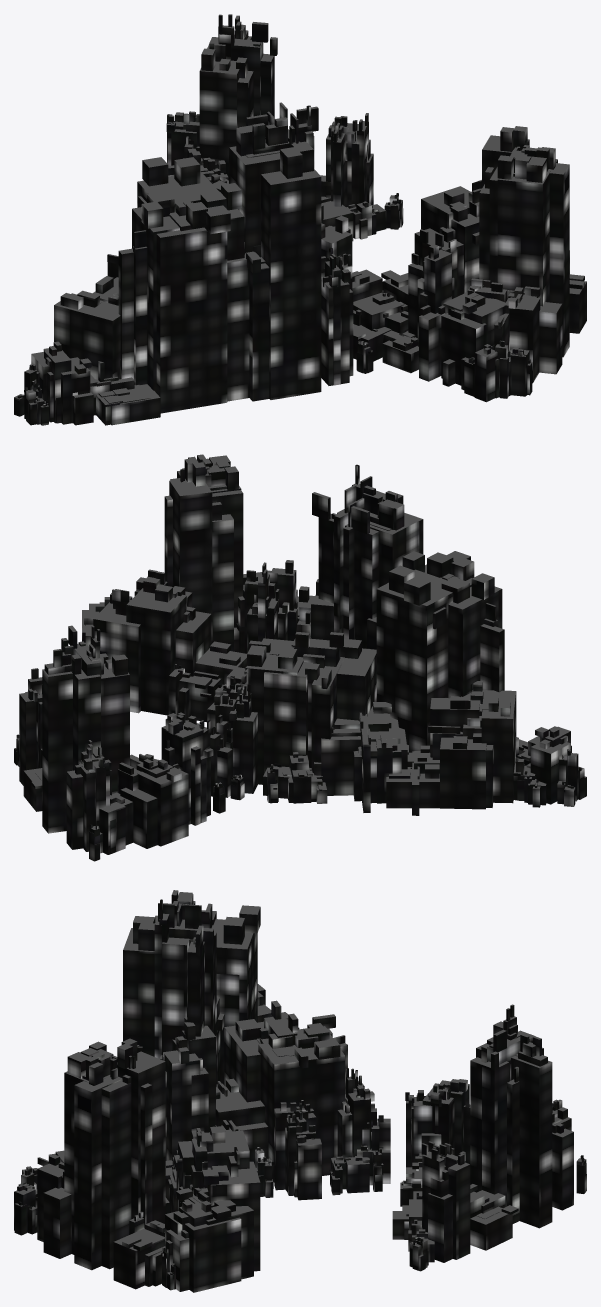
Rendered from city.obj.
3 renders of one model, top to bottom at view 1: azimuth 30°, elevation 25°; view 2: azimuth 150°, elevation 25°; view 3: azimuth 270°, elevation 25°, orthographic. The views are drawn at different scales.
Visible parts, largest first — view 1: SCG_city; view 2: SCG_city; view 3: SCG_city.
Boxes of the visible parts, x1,y1,x2,y2 form: SCG_city: (14,14,586,425); SCG_city: (14,454,586,861); SCG_city: (14,890,586,1292).
Bounding box in the file's own units: 13.71 × 6.63 × 13.08.
